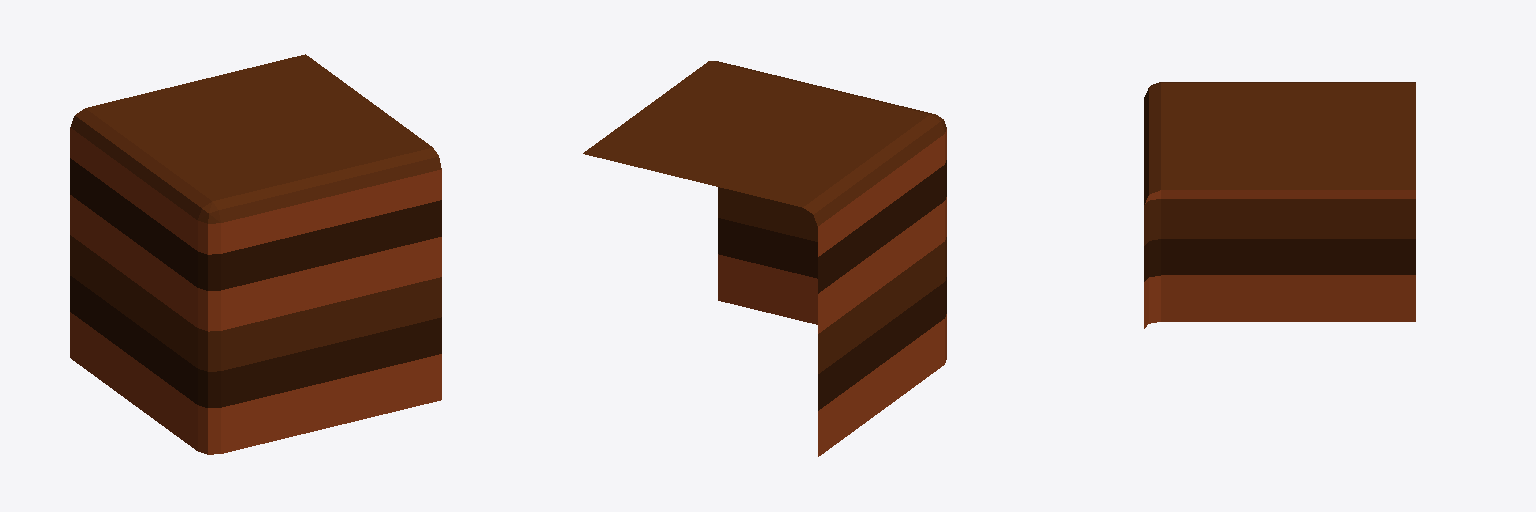
The model's file is Cube_Dirt_Corner_Tall.obj.
3 renders of one model, left to right at view 1: azimuth 30°, elevation 25°; view 2: azimuth 150°, elevation 25°; view 3: azimuth 270°, elevation 25°, orthographic.
Visible parts, largest first — view 1: Cube_Dirt_Corner_Tall_Cube.415; view 2: Cube_Dirt_Corner_Tall_Cube.415; view 3: Cube_Dirt_Corner_Tall_Cube.415.
Boxes of the visible parts, x1,y1,x2,y2 form: Cube_Dirt_Corner_Tall_Cube.415: [70, 54, 441, 454]; Cube_Dirt_Corner_Tall_Cube.415: [583, 61, 946, 456]; Cube_Dirt_Corner_Tall_Cube.415: [1144, 82, 1415, 328].
Size of the model in its own units: 2 by 2 by 2.